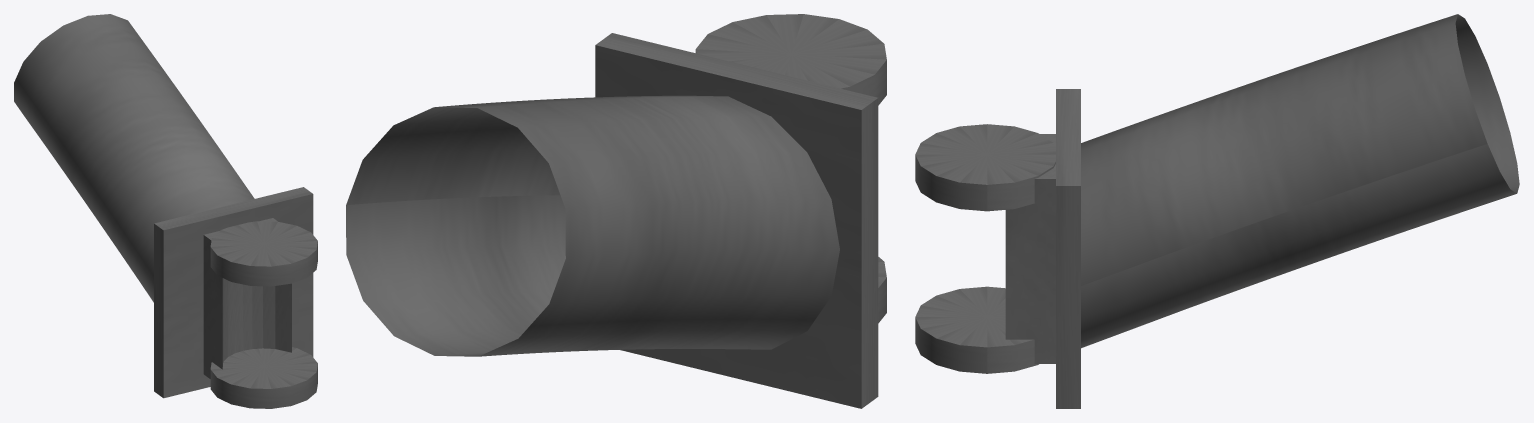
File: mastarmcurve_10x2_c0_ped.obj
The picture shows the model from 3 angles, left to right: view 1: azimuth 30°, elevation 25°; view 2: azimuth 150°, elevation 25°; view 3: azimuth 270°, elevation 25°; orthographic projection. The views are drawn at different scales.
Visible parts, largest first — view 1: mastarm_10x2_c0_ped; view 2: mastarm_10x2_c0_ped; view 3: mastarm_10x2_c0_ped.
Part boxes in pixels (x1=…): mastarm_10x2_c0_ped: x1=14, y1=14, x2=317, y2=408; mastarm_10x2_c0_ped: x1=346, y1=14, x2=886, y2=408; mastarm_10x2_c0_ped: x1=915, y1=14, x2=1519, y2=408.
Size of the model in its own units: 0.6875 by 1.12 by 1.81.
